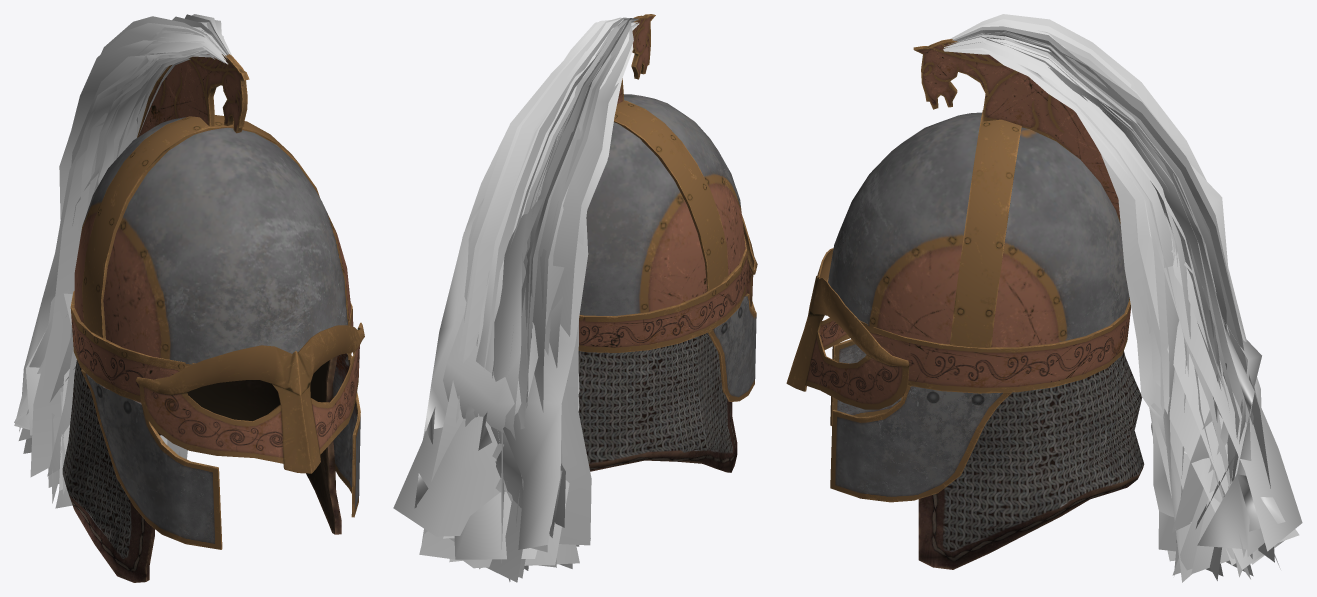
File: cts_cts_rohan_royal_guard_helmet_tail.dae
3 views of the same model, side by side, from view 1: azimuth 30°, elevation 25°; view 2: azimuth 150°, elevation 25°; view 3: azimuth 270°, elevation 25° (orthographic). The views are drawn at different scales.
Parts seen in each view (by area): view 1: cts_cts_rohan_royal_guard_helmet_tail; view 2: cts_cts_rohan_royal_guard_helmet_tail; view 3: cts_cts_rohan_royal_guard_helmet_tail.
Part boxes in pixels (box(x1,y1,x2,y2)): cts_cts_rohan_royal_guard_helmet_tail: box(14, 14, 364, 582); cts_cts_rohan_royal_guard_helmet_tail: box(393, 14, 757, 582); cts_cts_rohan_royal_guard_helmet_tail: box(786, 14, 1302, 582).
Bounding box in the file's own units: 0.2028 × 0.3881 × 0.4449.
Materials: 1 (1 with a texture image).
